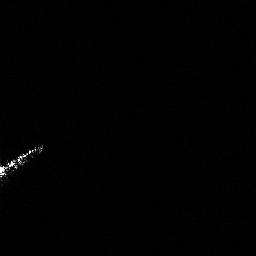ship: (1, 140, 46, 184)
